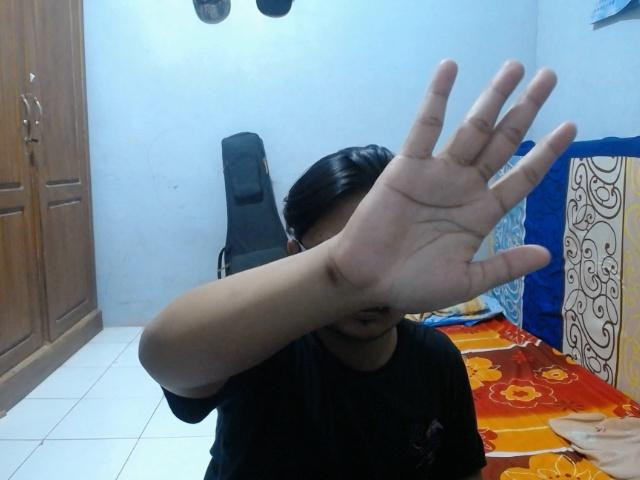Release: (324, 51, 580, 311)
